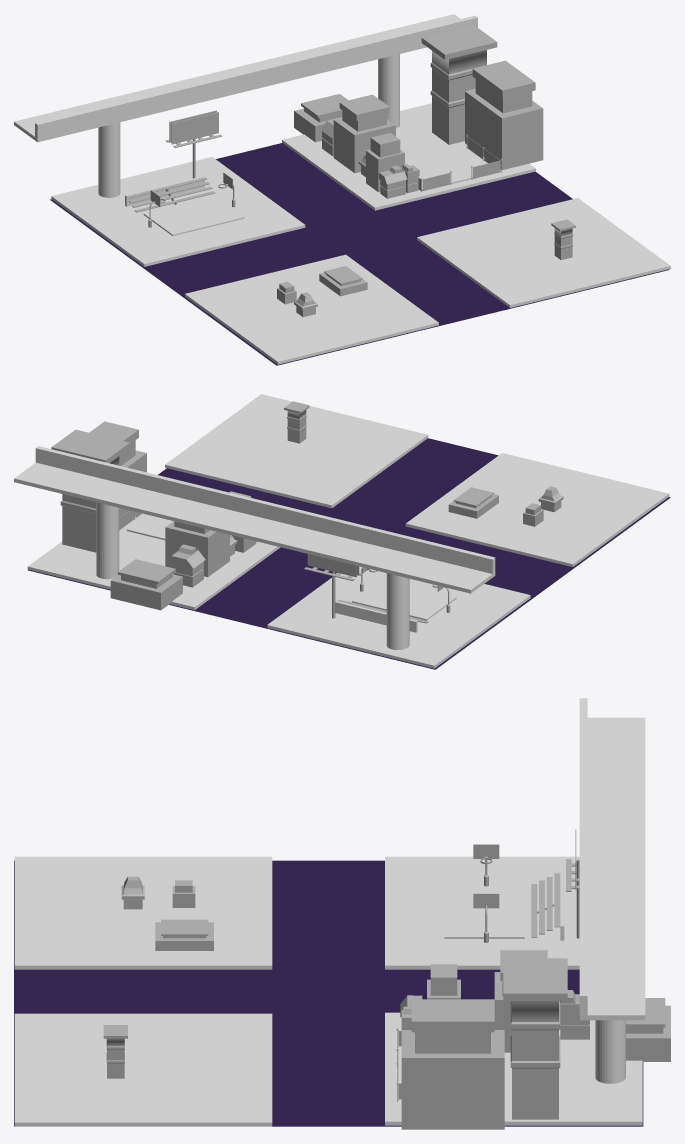
Rendered from Baobab Crossroads_2.glb.
The picture shows the model from 3 angles, top to bottom: view 1: azimuth 30°, elevation 25°; view 2: azimuth 150°, elevation 25°; view 3: azimuth 270°, elevation 25°; orthographic projection. The views are drawn at different scales.
Visible parts, largest first — view 1: Street, Sidewalk 4, Sidewalk 3, Sidewalk 2, Freeeway Wall, Building_05.002, Sidewalk 1, Building_02.001, Freeway Road, Building_05.001, Cube.001, Freeway Pillar 1 (+10 smaller); view 2: Street, Sidewalk 4, Sidewalk 3, Freeway Road, Sidewalk 2, Freeeway Wall, Sidewalk 1, Building_02.001, Building_05.003, Building_05.001, Freeway Pillar 1, Freeway Pillar 2 (+9 smaller); view 3: Street, Sidewalk 4, Sidewalk 3, Freeway Road, Sidewalk 2, Building_05.002, Building_02.001, Sidewalk 1, Cube.001, Freeeway Wall, Building_05.003, Freeway Pillar 2 (+9 smaller).
Boxes of the visible parts, box(x1,y1,x2,y2) form: Street: box(50, 143, 669, 365); Sidewalk 4: box(417, 198, 670, 307); Sidewalk 3: box(185, 254, 438, 364); Sidewalk 2: box(51, 157, 305, 266); Freeeway Wall: box(35, 15, 477, 138); Building_05.002: box(465, 60, 543, 170); Sidewalk 1: box(282, 103, 535, 210); Building_02.001: box(421, 25, 497, 144); Freeway Road: box(14, 14, 460, 142); Building_05.001: box(333, 94, 395, 173); Cube.001: box(143, 196, 244, 235); Freeway Pillar 1: box(98, 122, 120, 197); Street: box(28, 438, 670, 669); Sidewalk 4: box(165, 394, 428, 508); Sidewalk 3: box(405, 453, 669, 566); Freeway Road: box(14, 462, 495, 593); Sidewalk 2: box(267, 566, 530, 668); Freeeway Wall: box(35, 446, 495, 573); Sidewalk 1: box(27, 513, 280, 610); Building_02.001: box(51, 429, 129, 552); Building_05.003: box(110, 559, 182, 610); Building_05.001: box(165, 521, 229, 577); Freeway Pillar 1: box(386, 573, 409, 649); Freeway Pillar 2: box(96, 502, 119, 579); Street: box(14, 860, 643, 1126); Sidewalk 4: box(14, 1013, 272, 1126); Sidewalk 3: box(14, 856, 272, 969); Freeway Road: box(580, 717, 645, 1020); Sidewalk 2: box(385, 856, 579, 969); Building_05.002: box(401, 999, 504, 1129); Building_02.001: box(503, 958, 567, 1119); Sidewalk 1: box(385, 1012, 642, 1125); Cube.001: box(444, 888, 524, 938); Freeeway Wall: box(579, 698, 587, 1015); Building_05.003: box(626, 998, 670, 1061); Freeway Pillar 2: box(595, 1020, 625, 1083).
Size of the model in its own units: 67.34 by 14.61 by 62.64.
